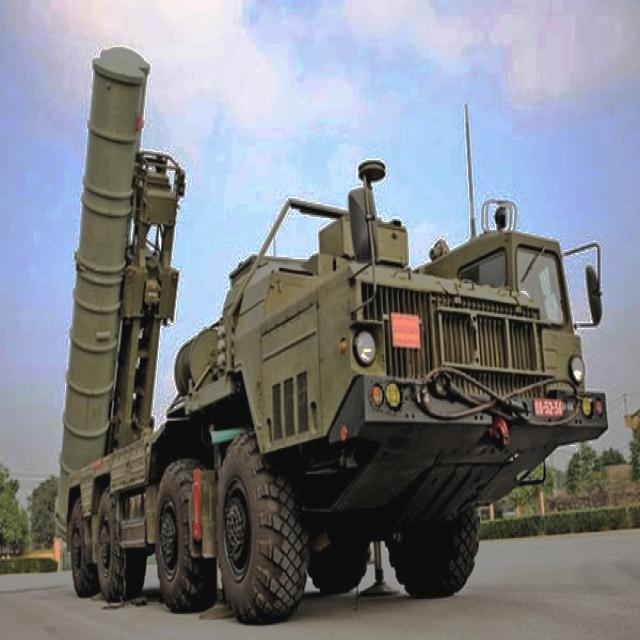license_plate: (536, 400, 564, 417)
